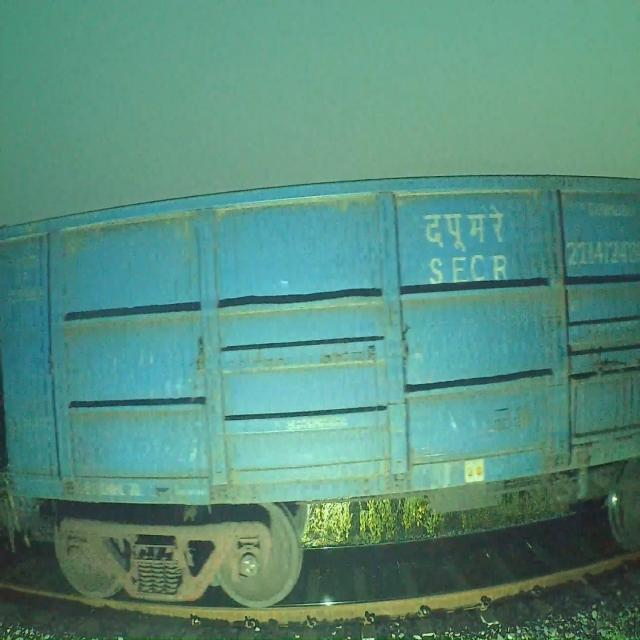WAgon-uic: (0, 171, 640, 614)
uic: (560, 235, 640, 272)
